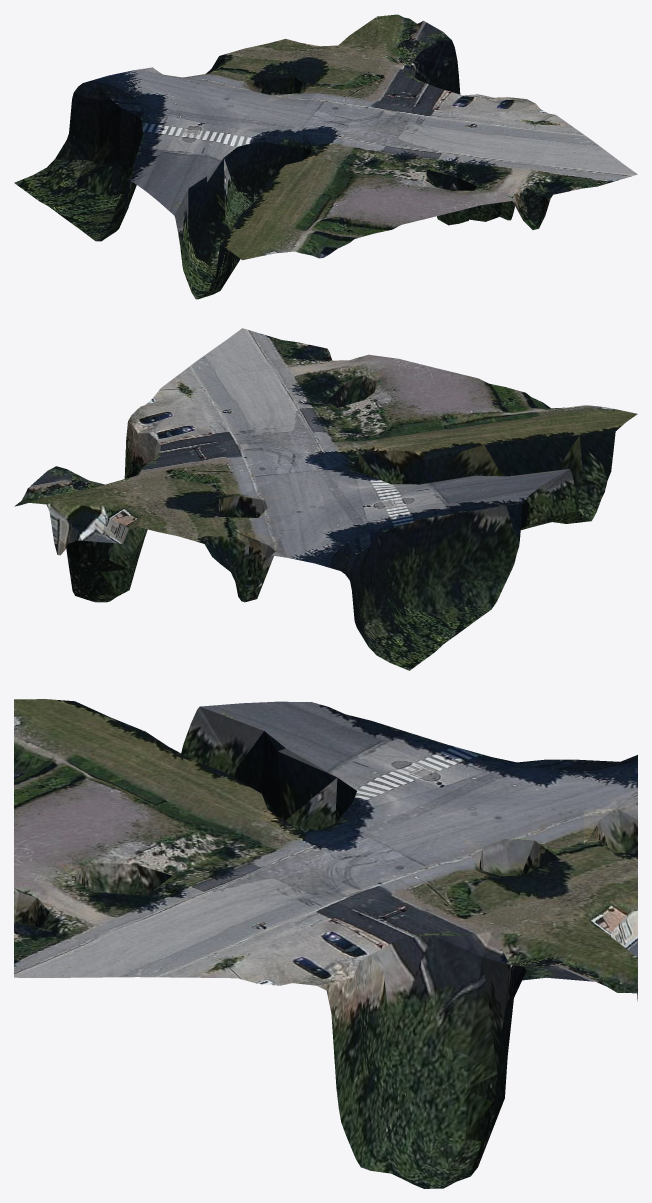
Rendered from map_15_8181_13790.dae.
The picture shows the model from 3 angles, top to bottom: view 1: azimuth 30°, elevation 25°; view 2: azimuth 150°, elevation 25°; view 3: azimuth 270°, elevation 25°; orthographic projection. The views are drawn at different scales.
Parts seen in each view (by area): view 1: Ter0; view 2: Ter0; view 3: Ter0.
Boxes of the visible parts, x1,y1,x2,y2 form: Ter0: (14, 14, 637, 299); Ter0: (14, 328, 637, 670); Ter0: (14, 699, 637, 1188).
Bounding box in the file's own units: 63.87 × 63.88 × 25.74.
3 materials, 3 textured.
